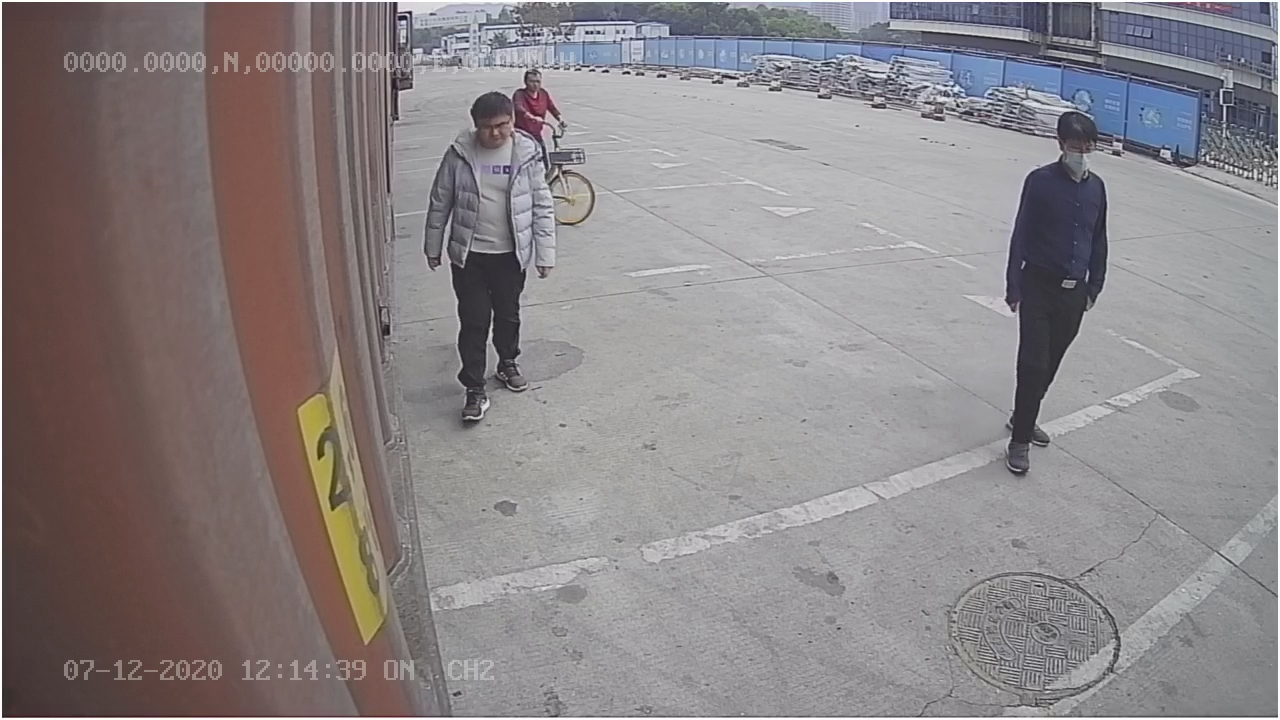person: (1000, 105, 1110, 476)
